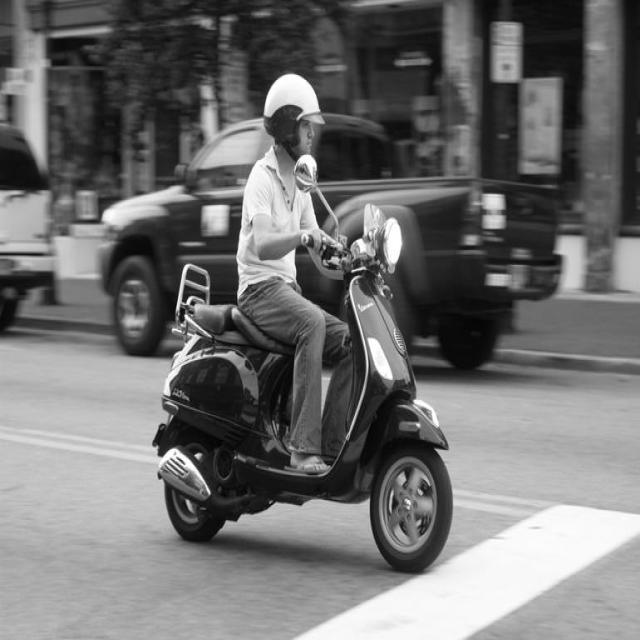scooter: (153, 204, 452, 572)
